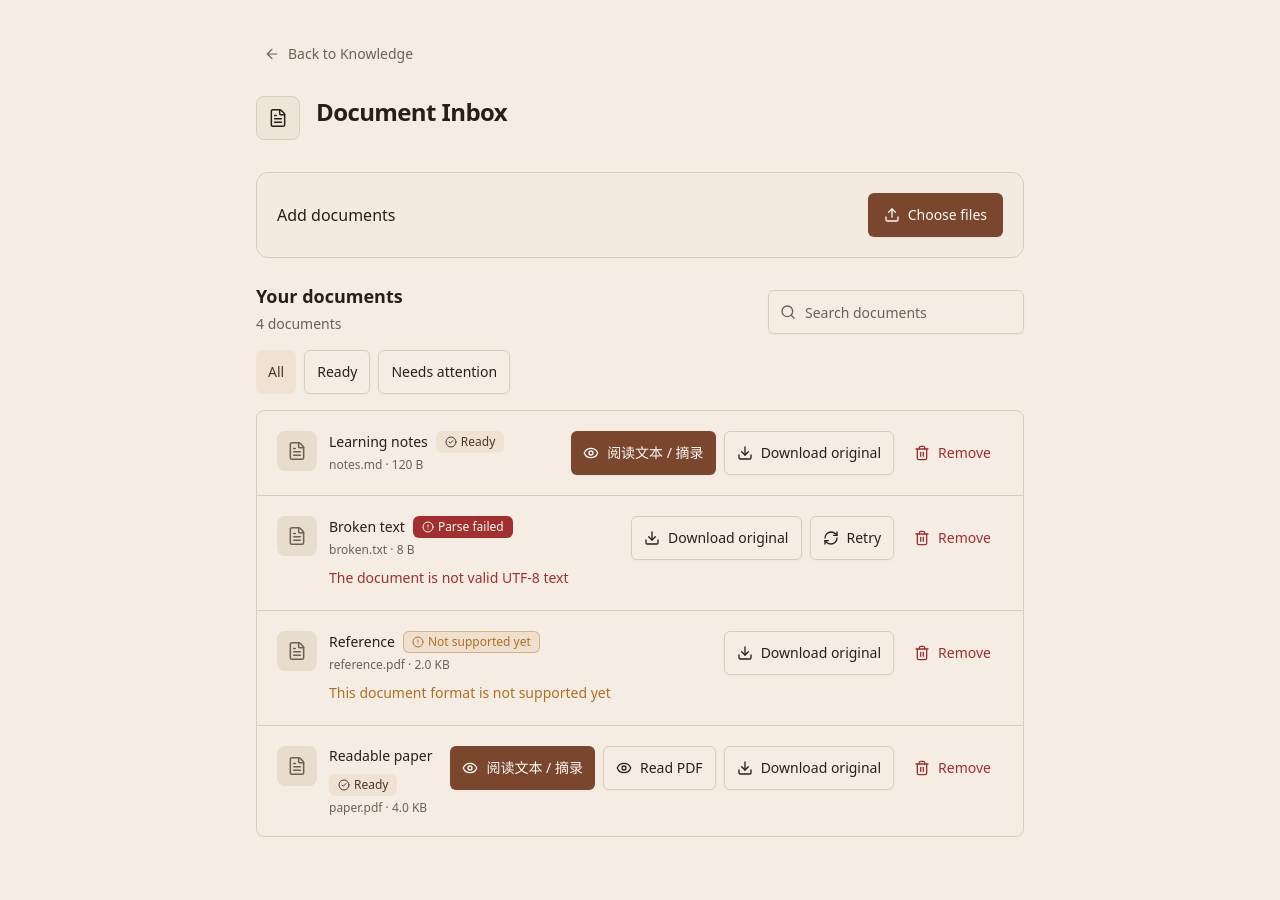
Test: Knowledge page › states the exact deletion impact before confirmation
Step 1. Click the button "Remove" in the row of "Learning notes" → [953, 453], box x1=902 y1=431 x2=1003 y2=475
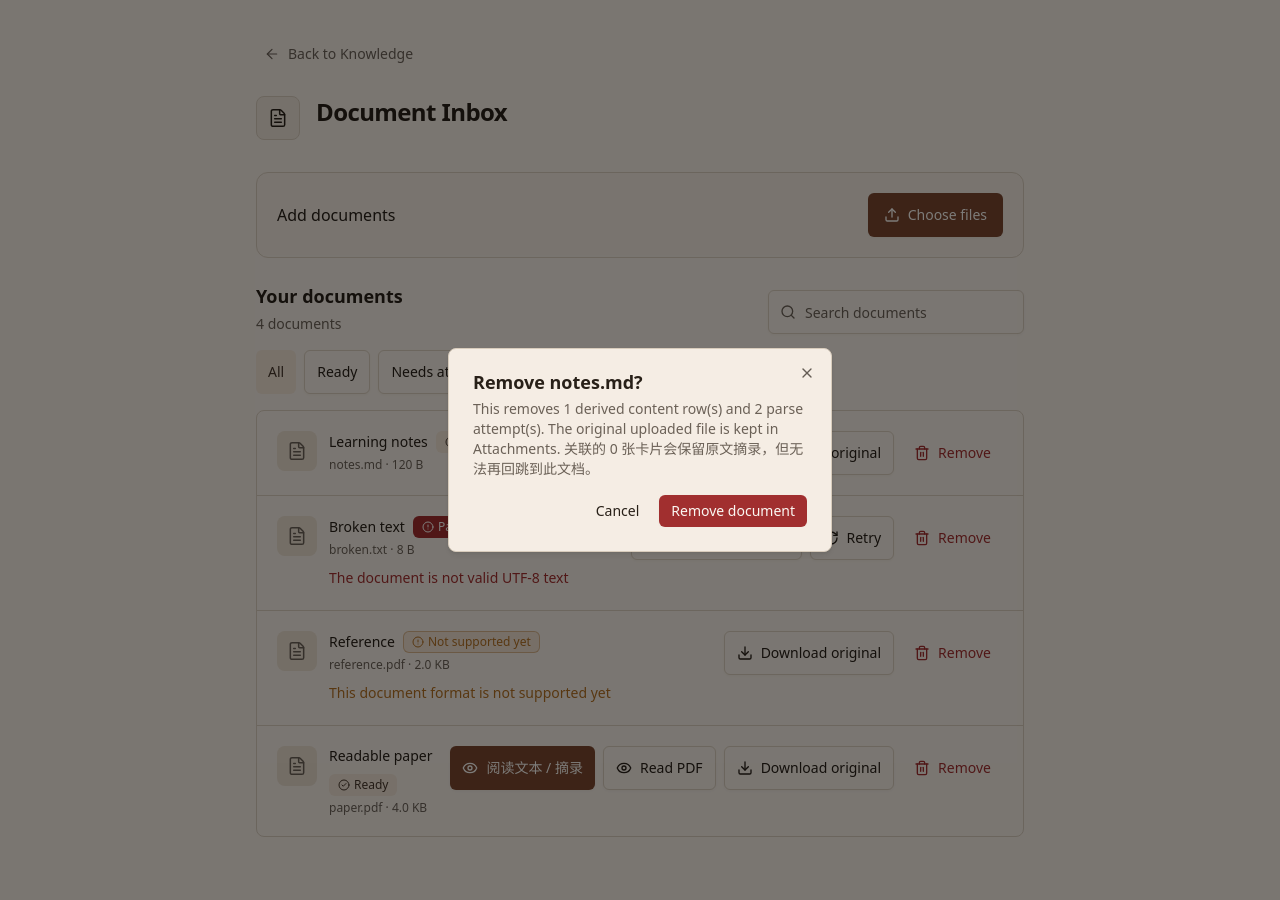
Expected: the heading "Remove notes.md?" is shown, x1=473 y1=373 x2=807 y2=391
